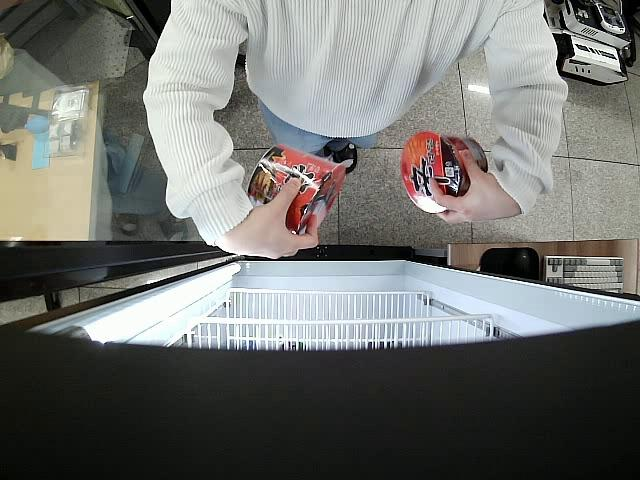00_hand: (219, 174, 320, 259), (430, 148, 517, 224)
01_shinRamen_L: (242, 139, 343, 235), (400, 134, 486, 211)
